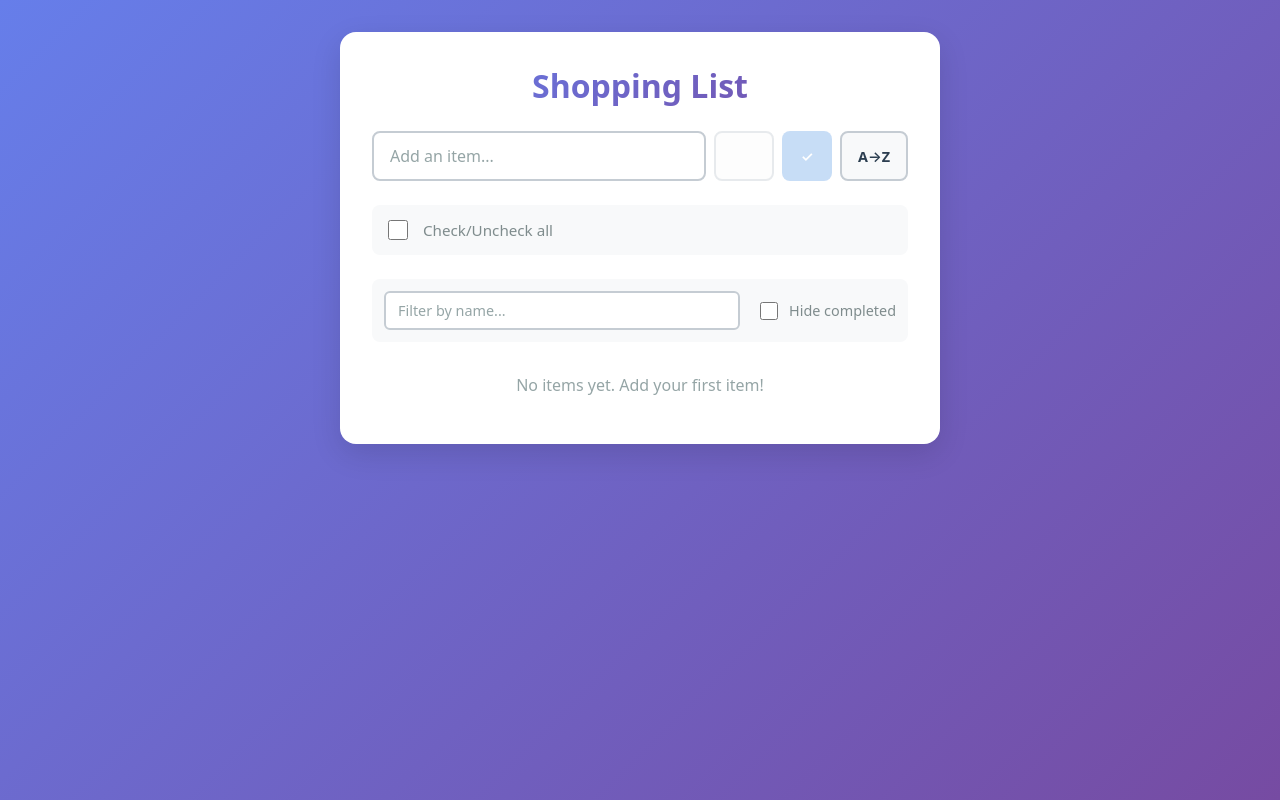
Scenario: App › adds a new item and clears the input
The image size is (1280, 800).
Type "Eggs" into the field with placeholder "Add an item..." at (539, 156), box [372,131,706,181]
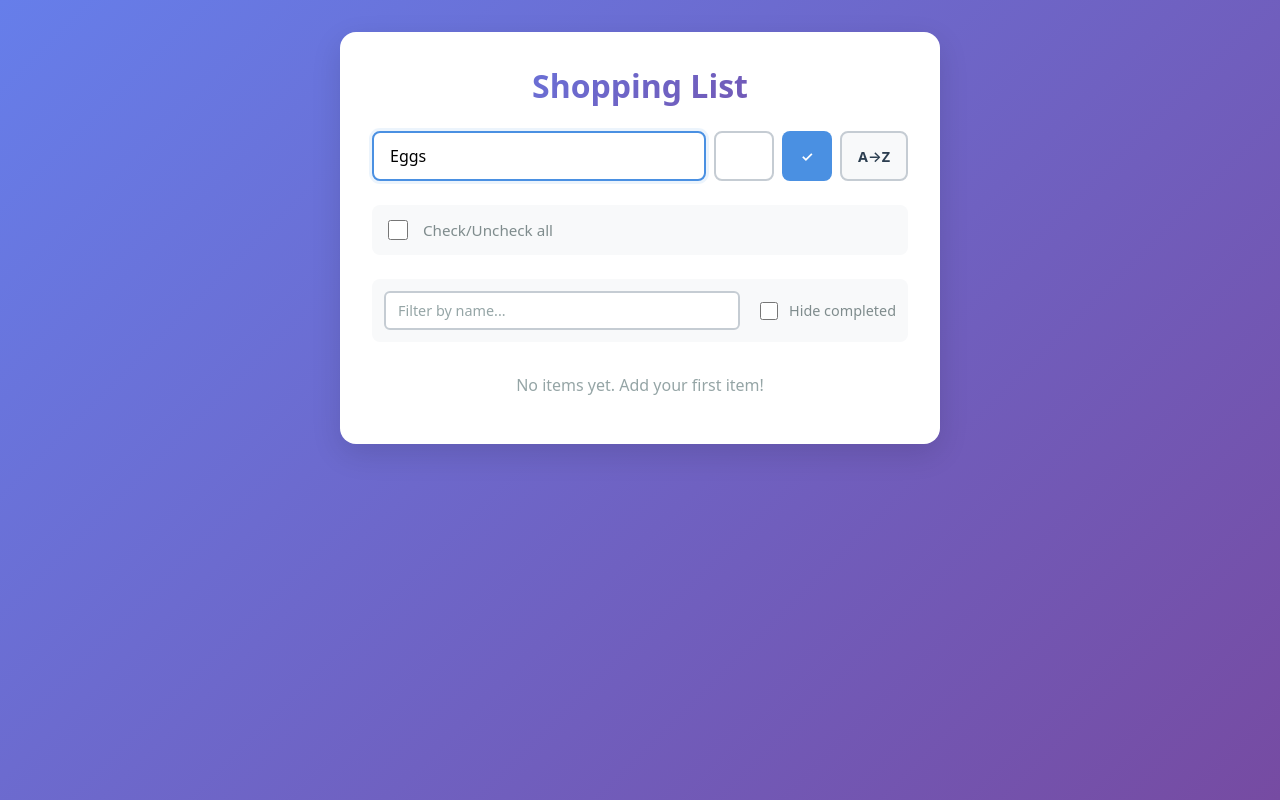
Type "3" into the number field at (744, 156), box [714,131,774,181]
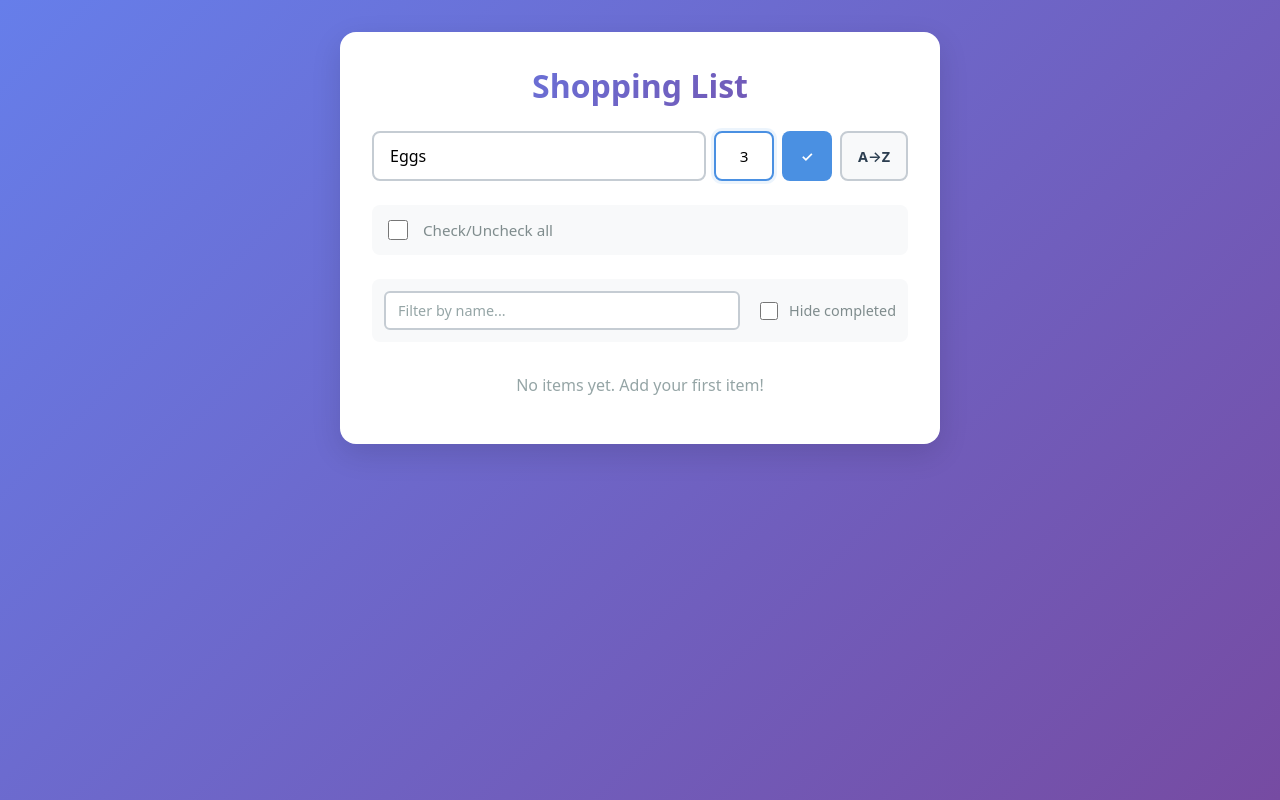
Click the button "✓" at (807, 156), box [782,131,832,181]
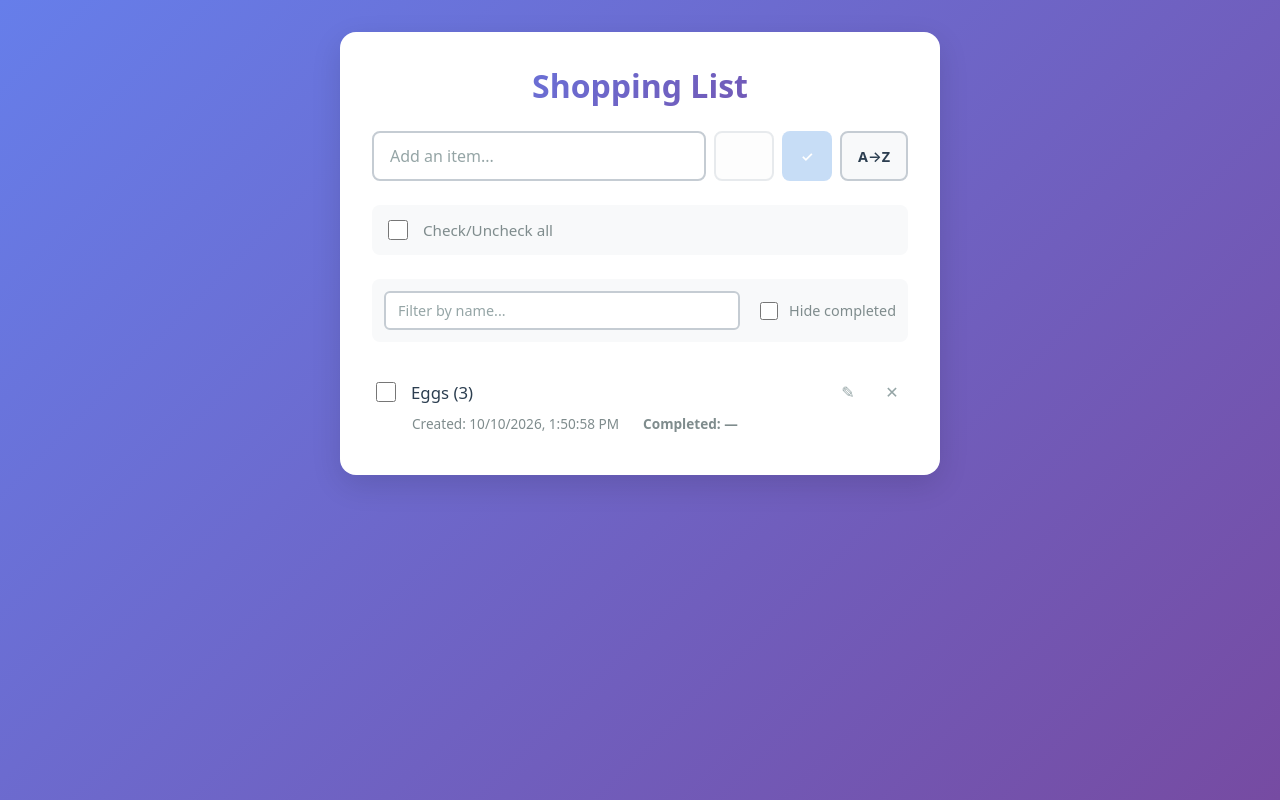
Expected: the number field is empty, [714,131,774,181]
Expected: the text "Eggs (3)" is shown, [411,381,473,404]
